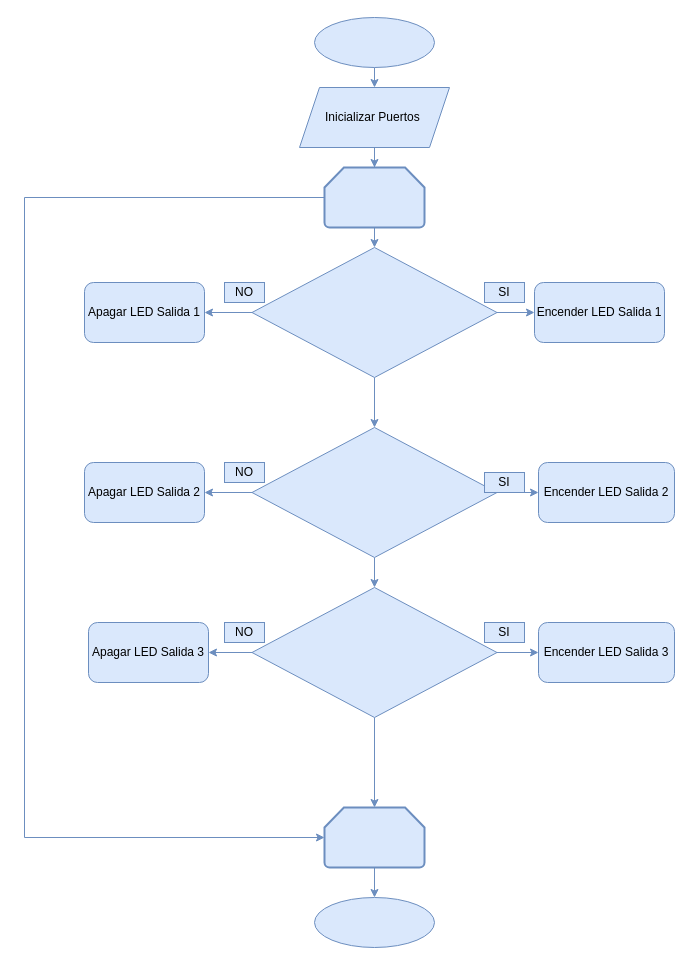
Image size: 692x965. Some labels were removed from this diagram. The centre of each missing label's shape, as x and y in pixels:
bit_is_clear(PIND,boton_1) && bit_is_set(PIND,boton_2): (374,312)
bit_is_clear(PIND,boton_1) == bit_is_set(PIND,boton_2): (374,652)
bit_is_clear(PIND,boton_1) || bit_is_set(PIND,boton_2): (374,492)
FIN: (374,922)
INICIO: (374,42)
LOOP: (374,197)
